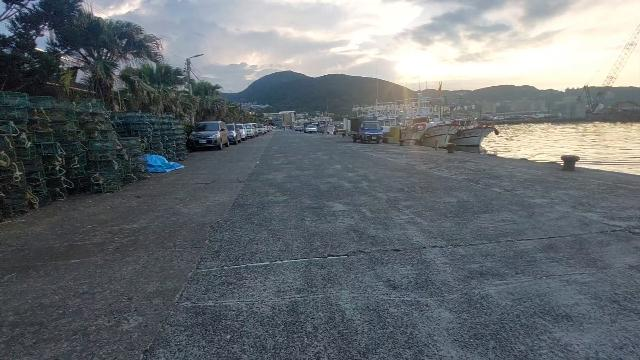pollute: (143, 152, 184, 173)
